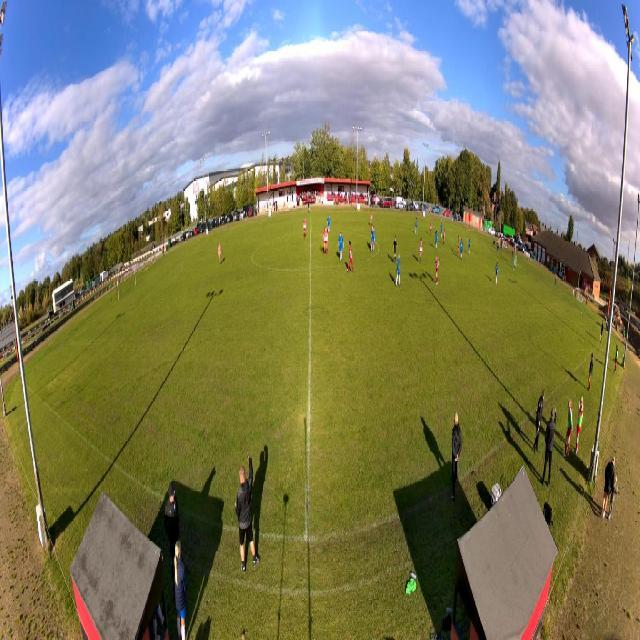ball: (514, 267, 515, 271)
player: (347, 239, 354, 274), (396, 252, 402, 289), (323, 226, 329, 257), (338, 231, 344, 262), (392, 234, 398, 265), (435, 253, 440, 285), (371, 225, 376, 252), (419, 237, 424, 264), (303, 215, 308, 240), (327, 214, 332, 234), (370, 225, 374, 249), (495, 262, 499, 286), (460, 237, 464, 261), (218, 242, 222, 266), (435, 229, 439, 249), (467, 236, 471, 255), (457, 233, 460, 257), (370, 209, 374, 225), (443, 227, 446, 246), (415, 216, 418, 235), (514, 253, 517, 271), (440, 222, 443, 239), (430, 220, 433, 237)
